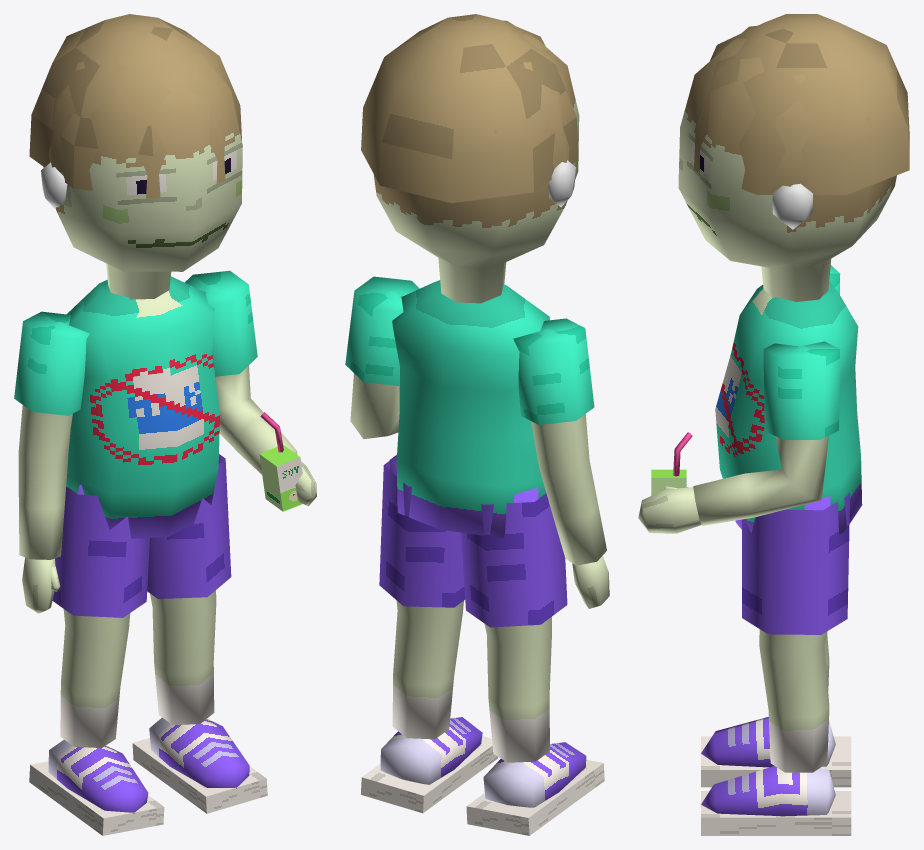
Rendered from Lactose Kid.fbx.
3 renders of one model, left to right at view 1: azimuth 30°, elevation 25°; view 2: azimuth 150°, elevation 25°; view 3: azimuth 270°, elevation 25°, orthographic. The views are drawn at different scales.
Parts seen in each view (by area): view 1: Lactose Kid torso, Lactose Kid head, Lactose Kid hair cap, Lactose Kid shorts R, Lactose Kid leg R.001, Lactose Kid leg L.001, Lactose Kid arm R.001, Lactose Kid shorts L, Lactose Kid sleeve R, Lactose Kid shoe L, Lactose Kid shoe R, Lactose Kid sleeve L (+7 smaller); view 2: Lactose Kid hair cap, Lactose Kid torso, Lactose Kid head, Lactose Kid shorts R, Lactose Kid leg R.001, Lactose Kid leg L.001, Lactose Kid shorts L, Lactose Kid arm R.001, Lactose Kid sleeve R, Lactose Kid sleeve L, Lactose Kid shoe R, Lactose Kid shoe L (+5 smaller); view 3: Lactose Kid hair cap, Lactose Kid head, Lactose Kid torso, Lactose Kid shorts L, Lactose Kid leg L.001, Lactose Kid sleeve L, Lactose Kid arm L.001, Lactose Kid shoe L, Lactose Kid sole L, Lactose Kid shoe R, Lactose Kid hand L, Lactose Kid sole R (+2 smaller).
Boxes of the visible parts, left/top/right/bottom form: Lactose Kid torso: left=66, top=276, right=219, bottom=538; Lactose Kid head: left=43, top=36, right=242, bottom=299; Lactose Kid hair cap: left=29, top=14, right=241, bottom=198; Lactose Kid shorts R: left=52, top=486, right=149, bottom=617; Lactose Kid leg R.001: left=60, top=485, right=130, bottom=747; Lactose Kid leg L.001: left=150, top=590, right=216, bottom=724; Lactose Kid arm R.001: left=18, top=322, right=72, bottom=559; Lactose Kid shorts L: left=147, top=454, right=231, bottom=598; Lactose Kid sleeve R: left=14, top=311, right=89, bottom=415; Lactose Kid shoe L: left=149, top=717, right=249, bottom=788; Lactose Kid shoe R: left=48, top=740, right=148, bottom=813; Lactose Kid sleeve L: left=185, top=270, right=257, bottom=376; Lactose Kid hair cap: left=361, top=14, right=578, bottom=203; Lactose Kid torso: left=392, top=280, right=549, bottom=537; Lactose Kid head: left=373, top=20, right=579, bottom=303; Lactose Kid shorts R: left=461, top=493, right=567, bottom=627; Lactose Kid leg R.001: left=484, top=487, right=551, bottom=762; Lactose Kid leg L.001: left=389, top=455, right=463, bottom=739; Lactose Kid shorts L: left=379, top=461, right=465, bottom=607; Lactose Kid arm R.001: left=531, top=329, right=606, bottom=565; Lactose Kid sleeve R: left=513, top=318, right=594, bottom=424; Lactose Kid sleeve L: left=345, top=276, right=419, bottom=386; Lactose Kid shoe R: left=483, top=742, right=586, bottom=807; Lactose Kid shoe L: left=380, top=717, right=482, bottom=784; Lactose Kid hair cap: left=694, top=14, right=909, bottom=194; Lactose Kid head: left=678, top=26, right=896, bottom=301; Lactose Kid torso: left=715, top=281, right=862, bottom=534; Lactose Kid shorts L: left=742, top=493, right=849, bottom=634; Lactose Kid leg L.001: left=759, top=496, right=830, bottom=772; Lactose Kid sleeve L: left=763, top=341, right=840, bottom=439; Lactose Kid arm L.001: left=693, top=345, right=828, bottom=525; Lactose Kid shoe L: left=701, top=766, right=835, bottom=816; Lactose Kid sole L: left=701, top=791, right=851, bottom=835; Lactose Kid shoe R: left=701, top=717, right=835, bottom=767; Lactose Kid hand L: left=638, top=487, right=701, bottom=533; Lactose Kid sole R: left=701, top=736, right=851, bottom=787.
Size of the model in its own units: 0.3878 by 1.21 by 0.3823.
Materials: 14 (13 with a texture image).
